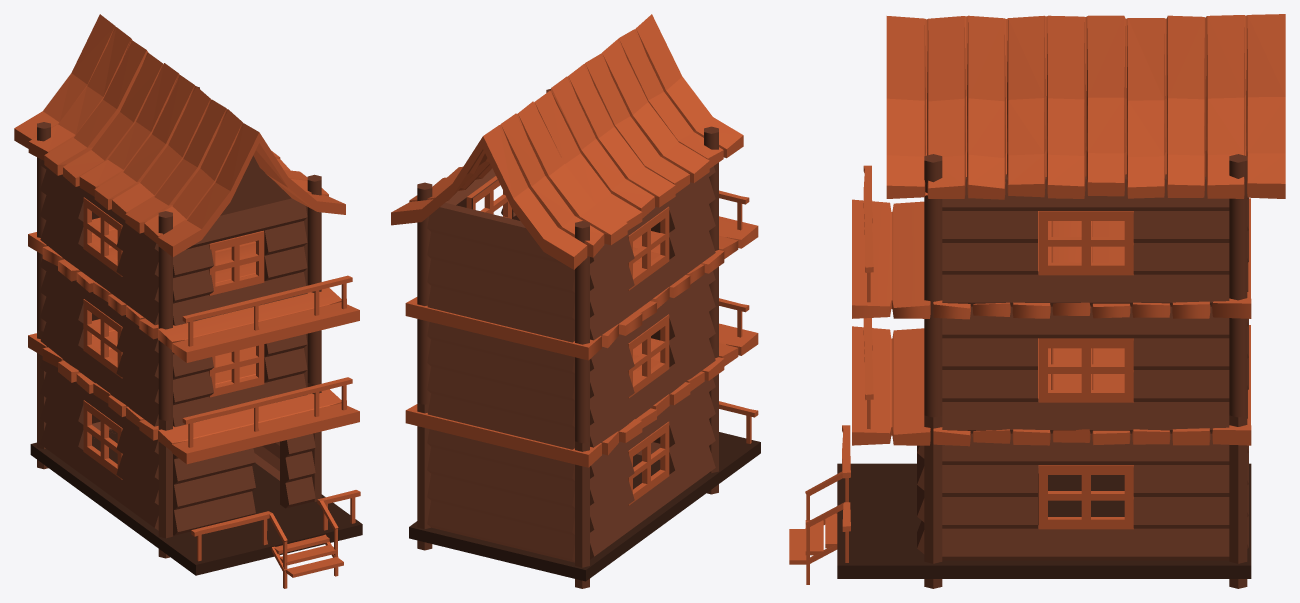
Rendered from grupo casas.FBX.
The picture shows the model from 3 angles, left to right: view 1: azimuth 30°, elevation 25°; view 2: azimuth 150°, elevation 25°; view 3: azimuth 270°, elevation 25°; orthographic projection. The views are drawn at different scales.
Visible parts, largest first — view 1: piso extra001, Box010, piso extra; view 2: piso extra001, Box010, piso extra; view 3: piso extra001, Box010, piso extra.
Part boxes in pixels (box(x1,y1,x2,y2)): piso extra001: box(14, 14, 352, 346); Box010: box(28, 319, 362, 588); piso extra: box(28, 217, 359, 447); piso extra001: box(391, 14, 749, 342); Box010: box(405, 323, 760, 588); piso extra: box(405, 216, 758, 449); piso extra001: box(863, 14, 1285, 306); Box010: box(789, 325, 1251, 588); piso extra: box(852, 198, 1251, 433).
Bounding box in the file's own units: 101 × 235 × 195.
